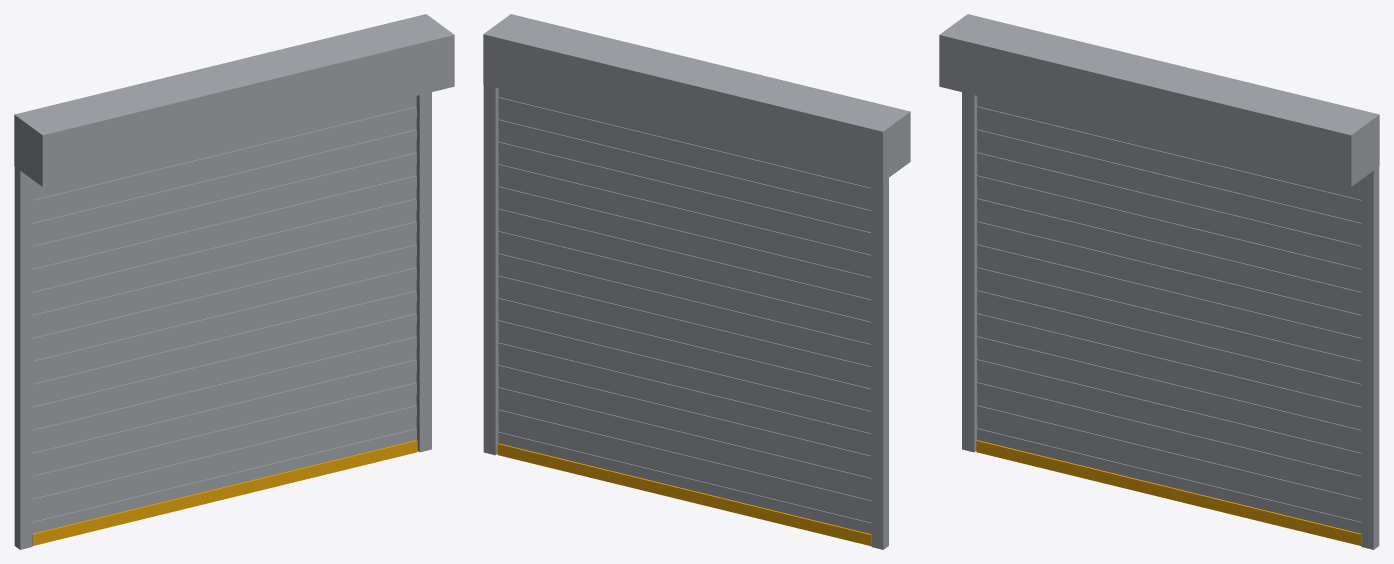
Rendered from opening.door.vehicle.glb.
3 views of the same model, side by side, from view 1: azimuth 30°, elevation 25°; view 2: azimuth 150°, elevation 25°; view 3: azimuth 330°, elevation 25° (orthographic). The views are drawn at different scales.
Visible parts, largest first — view 1: leaf__steel_galvanised, frame__steel_galvanised, leaf__plant_yellow; view 2: leaf__steel_galvanised, frame__steel_galvanised, leaf__plant_yellow; view 3: leaf__steel_galvanised, frame__steel_galvanised, leaf__plant_yellow.
Part boxes in pixels (<box>): leaf__steel_galvanised: <box>32,96,416,533</box>; frame__steel_galvanised: <box>14,14,454,549</box>; leaf__plant_yellow: <box>32,440,417,545</box>; leaf__steel_galvanised: <box>498,88,871,533</box>; frame__steel_galvanised: <box>483,14,910,549</box>; leaf__plant_yellow: <box>497,443,871,545</box>; leaf__steel_galvanised: <box>977,96,1361,533</box>; frame__steel_galvanised: <box>939,14,1379,549</box>; leaf__plant_yellow: <box>976,440,1361,545</box>.
Bounding box in the file's own units: 3 × 3 × 0.36.
